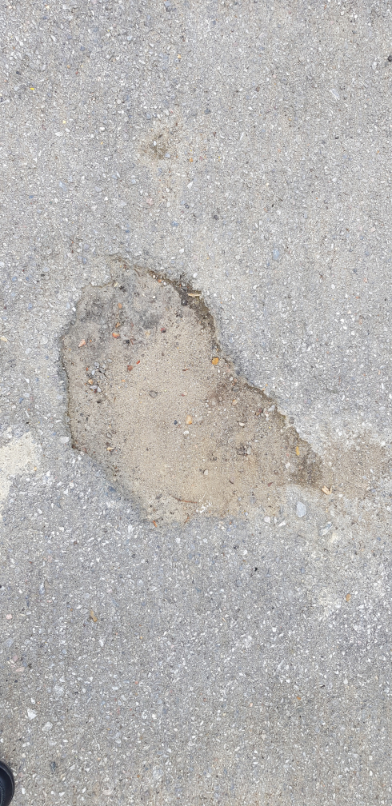pothole: (50, 248, 327, 534)
